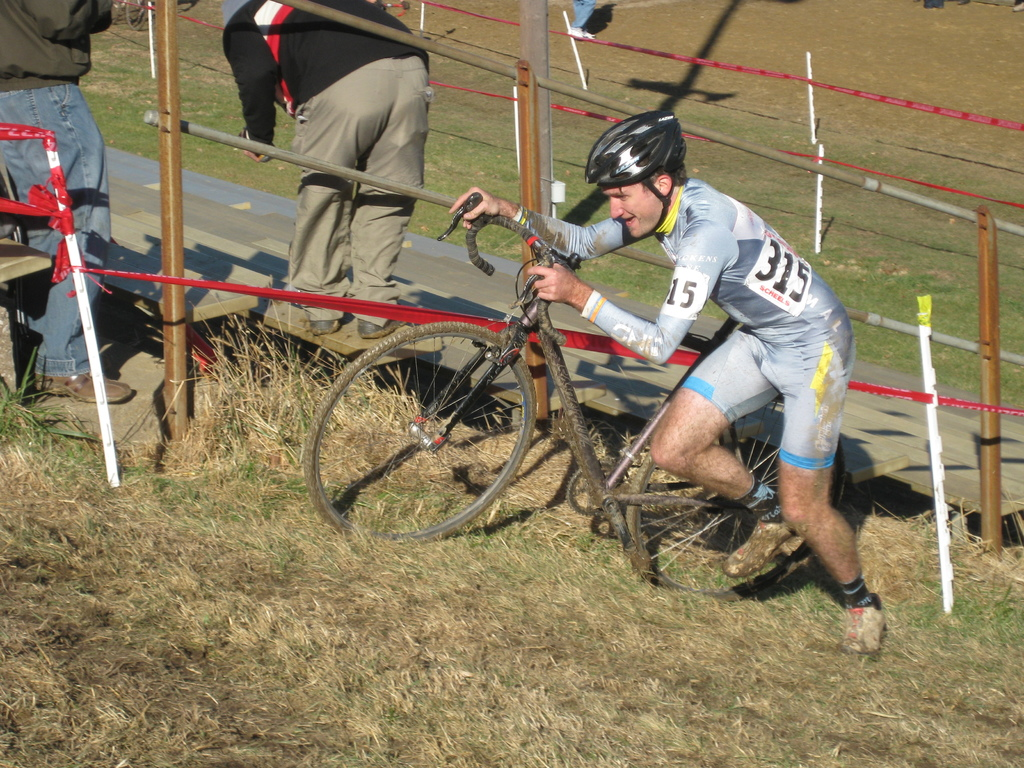Bike_toward: (298, 205, 839, 612)
